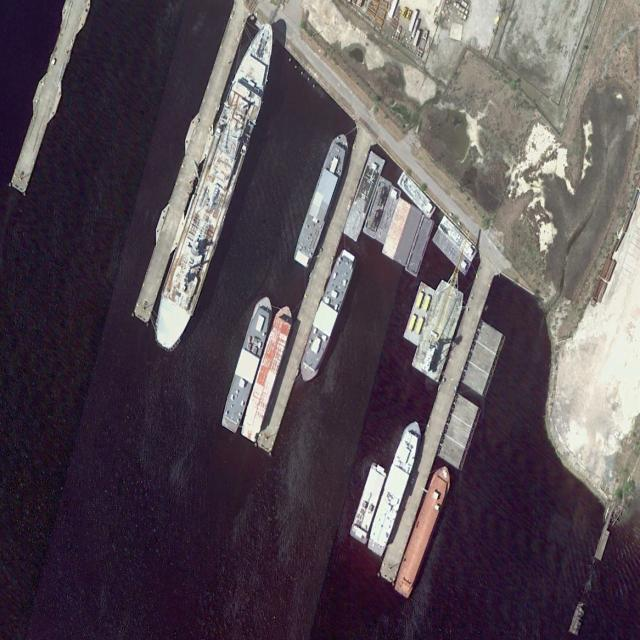Cargo: (146, 13, 285, 358)
Other Ship: (296, 245, 360, 388), (392, 459, 454, 602), (291, 127, 352, 270), (365, 414, 425, 558), (218, 291, 277, 436), (240, 302, 295, 443)
